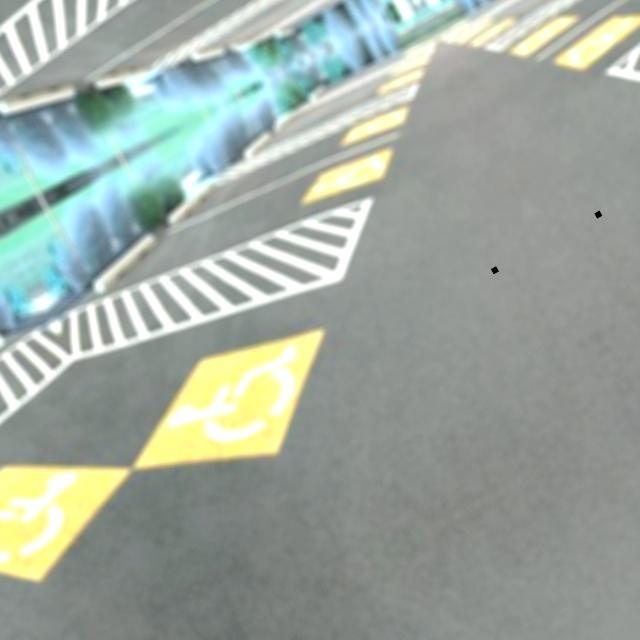ISA: (154, 330, 328, 474), (0, 452, 102, 596), (306, 144, 388, 209), (561, 7, 640, 71)
